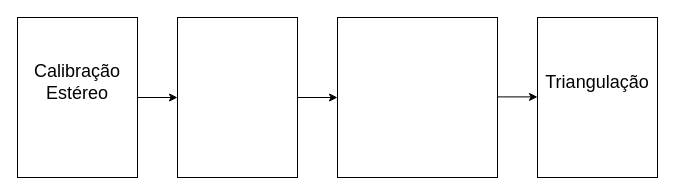
Some shapes in this 675 by 195 pixel diagram are drawn without their labels. Here are the shapes that lost their labels. From the top down, the centre of each, then its label:
(237,97): Retificação Estéreo
(417,97): Correspondência Estéreo
